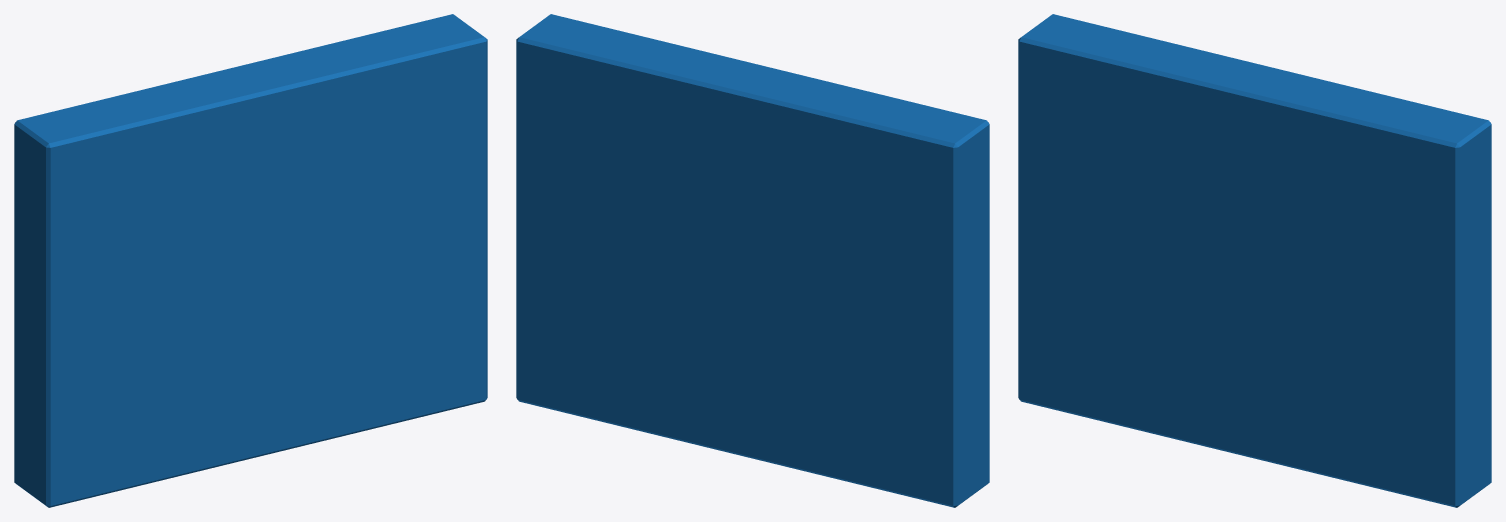
Rendered from Edge_Straight_02.fbx.
3 renders of one model, left to right at view 1: azimuth 30°, elevation 25°; view 2: azimuth 150°, elevation 25°; view 3: azimuth 330°, elevation 25°, orthographic.
Parts seen in each view (by area): view 1: Edge_Straight_02; view 2: Edge_Straight_02; view 3: Edge_Straight_02.
Part boxes in pixels (x1=…): Edge_Straight_02: x1=14, y1=14, x2=487, y2=507; Edge_Straight_02: x1=516, y1=14, x2=989, y2=507; Edge_Straight_02: x1=1018, y1=14, x2=1491, y2=507.
Size of the model in its own units: 3.66 by 2.89 by 0.5042.
